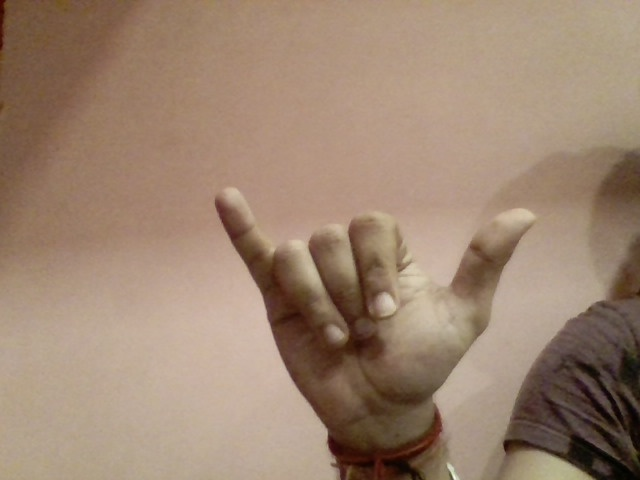y: (205, 170, 534, 421)
